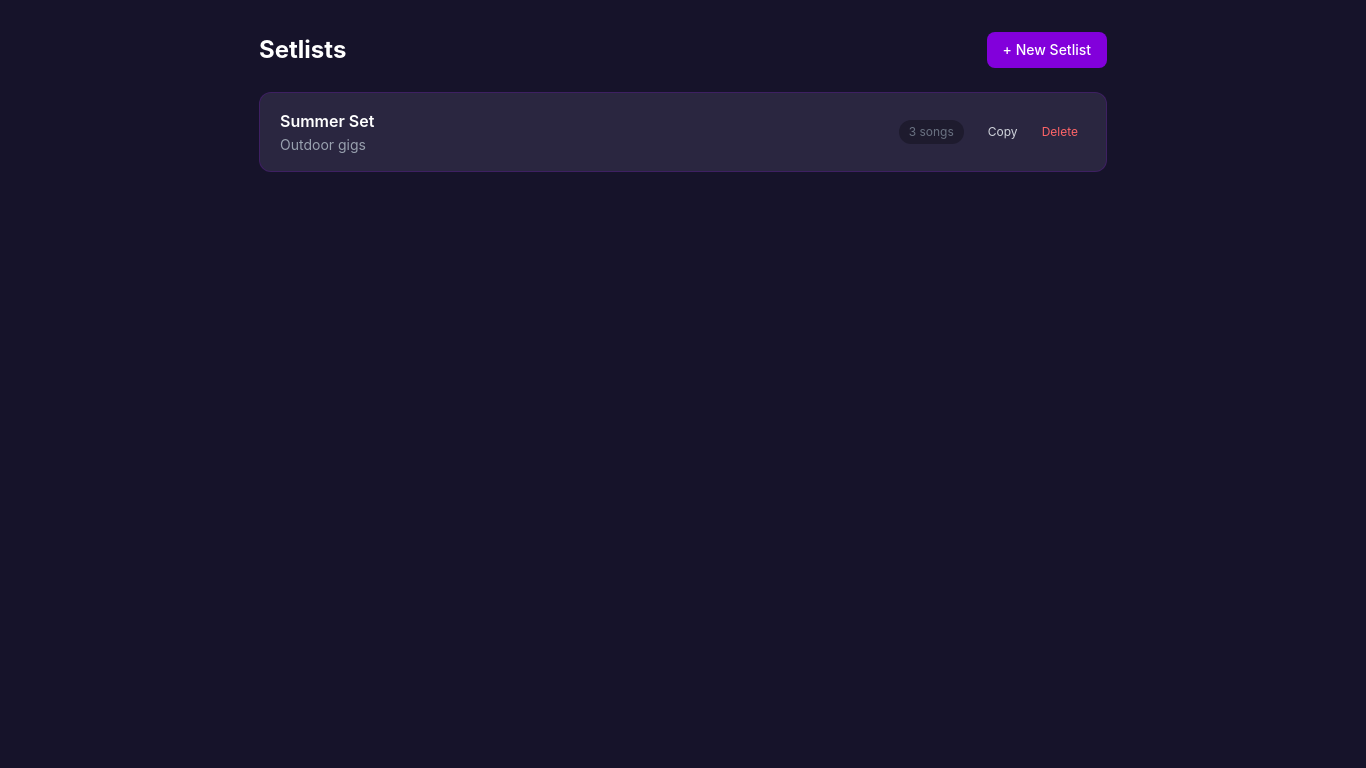
it: PlaylistListPage copy (#2) › Copy opens a modal prefilled with "Copy of <name>" and the description
Expected: the link "Summer Set" is shown, [280,111,374,131]
What coordinates should you click on to do the following:
click the button "Copy"
I would click on:
 (1003, 132)
Its box is [980,120,1026,144].
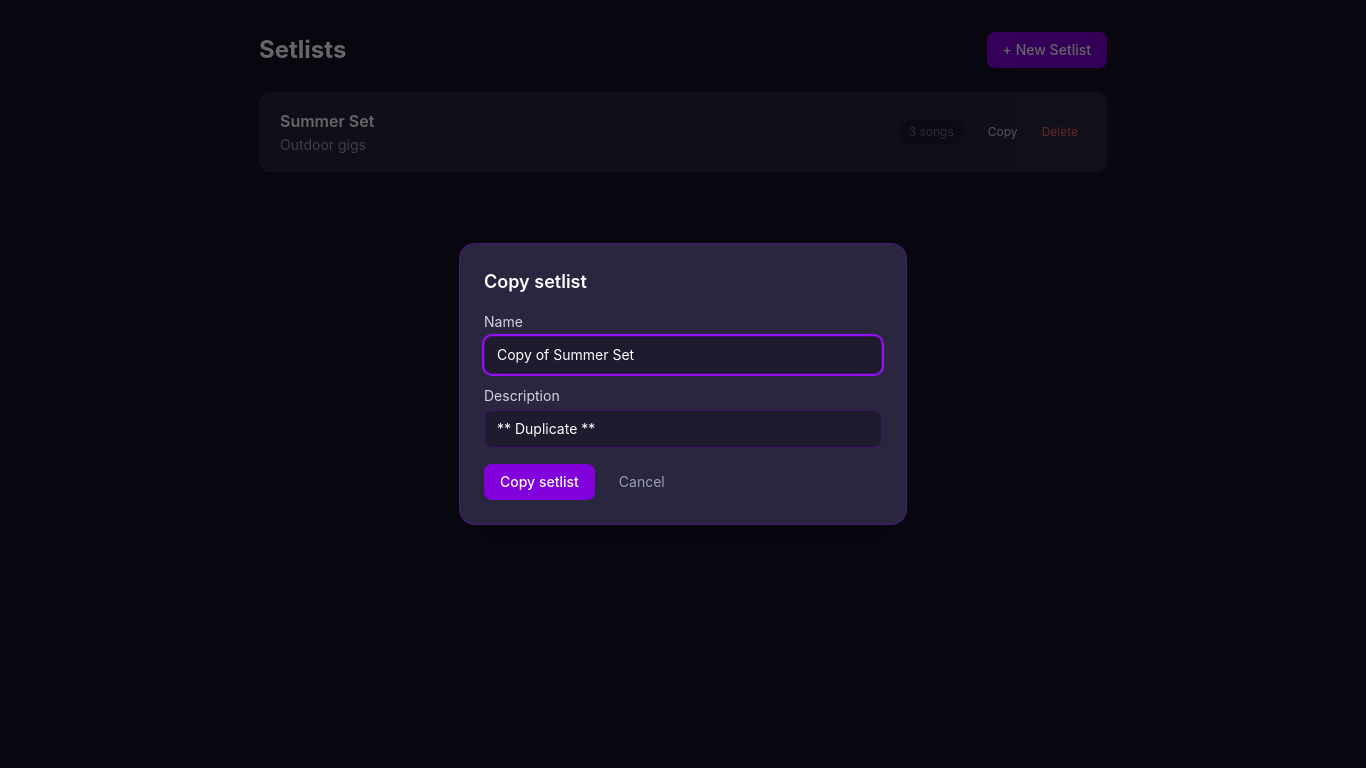
Result: the field named "new setlist name" holds "Copy of Summer Set" at [484,336,882,374]
Result: the field named "new setlist description" holds "** Duplicate **" at [484,410,882,448]
